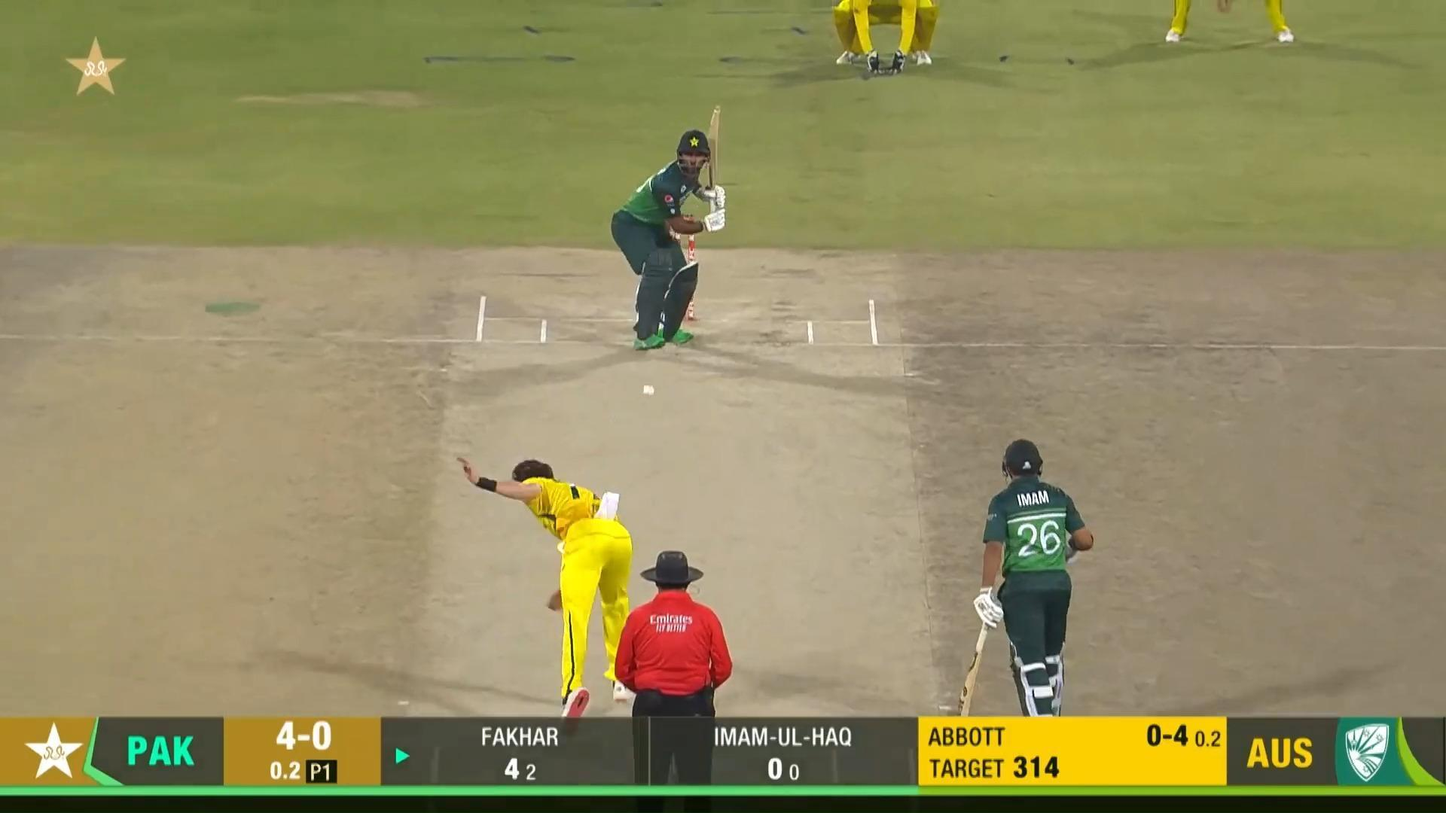BM 1: (611, 105, 726, 350)
BO: (458, 455, 637, 718)
